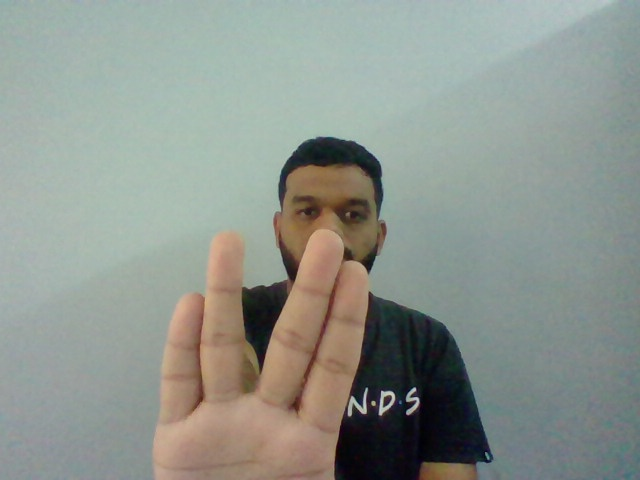Live long and prosper: (156, 227, 370, 480)
